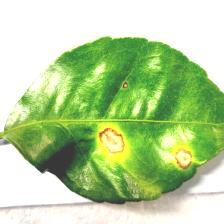canker: (91, 116, 199, 194)
